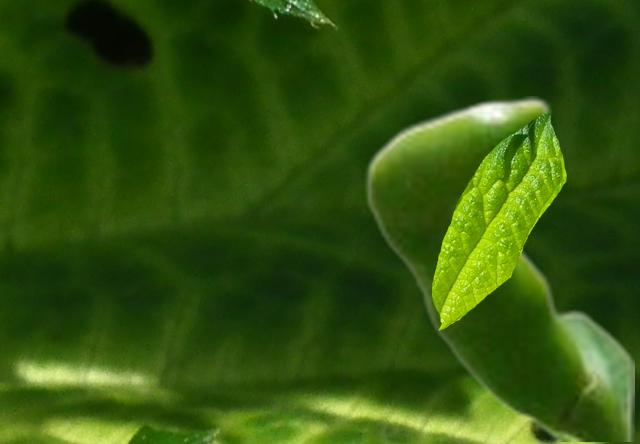green_chili: (364, 96, 633, 440)
